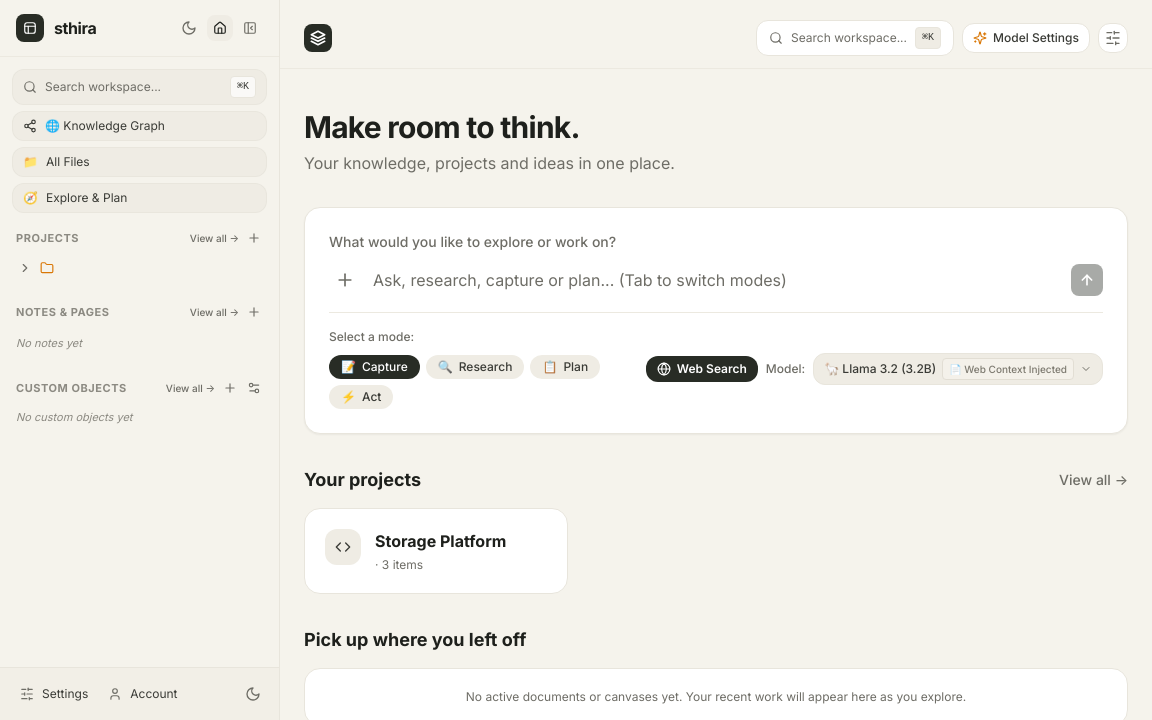
Test case: 🧭 Explore & Plan Hub › Step 1: LeftSidebar navigates to Explore & Plan and switches across all 4 tabs
The width and height of the screenshot is (1152, 720).
Click the button with test id "nav-explore-plan" at (140, 198), box [12,183,267,213]
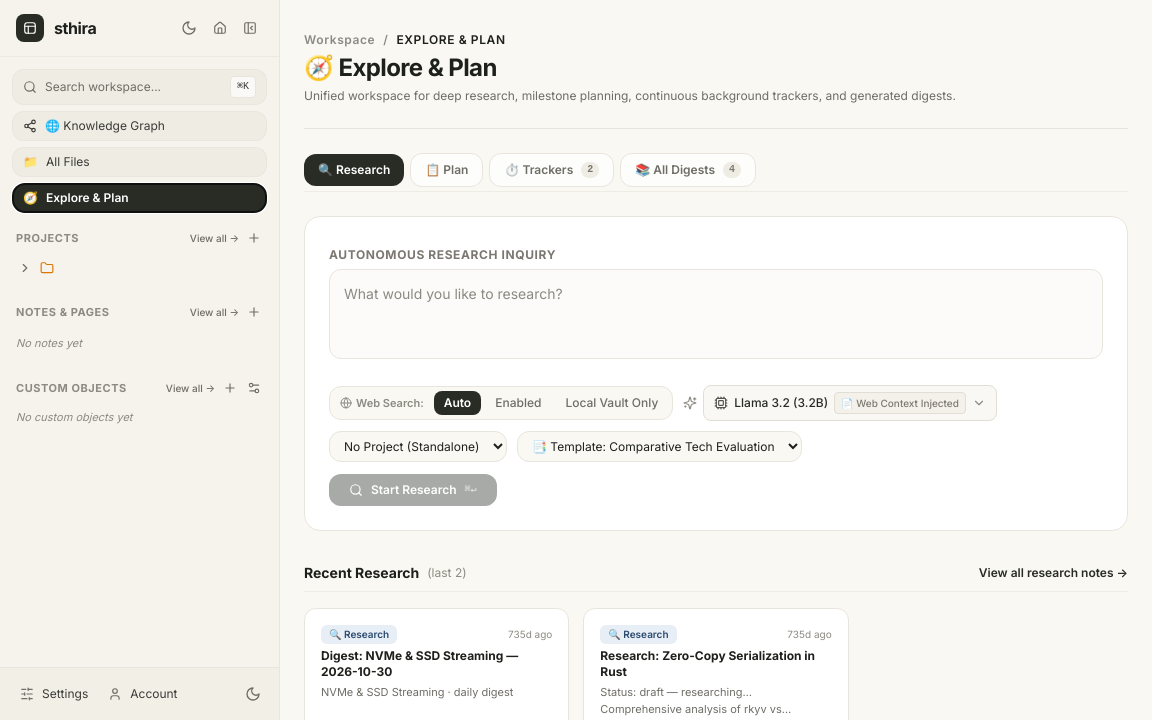
Result: the element with test id "explore-plan-view" is shown
Result: the heading "🧭 Explore & Plan" is shown at [304,53,497,82]
Result: the button with test id "tab-research" is shown at [304,154,404,186]
# Switch to Tab 2: Plan
Click the button with test id "tab-plan" at (447, 170), box [410,153,483,187]
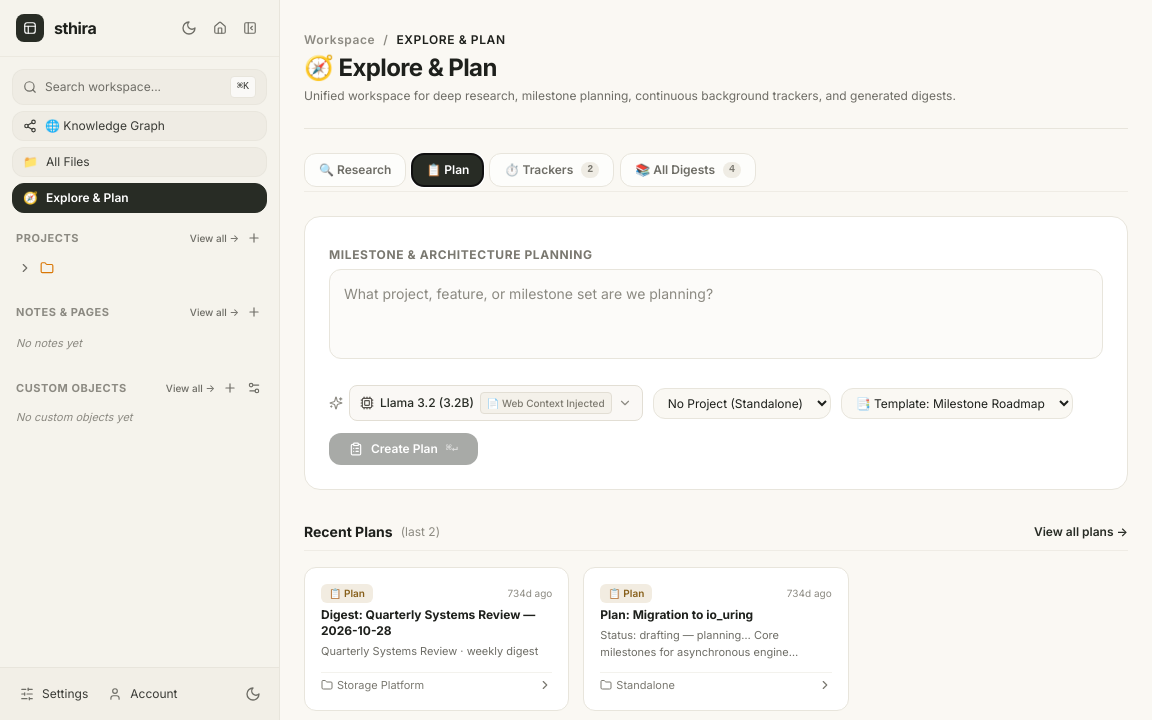
Result: the element with test id "tab-content-plan" is shown at [304,216,1128,710]
Result: the text box with test id "input-plan-goal" is shown at [329,269,1103,359]
Click the button with test id "tab-trackers" at (552, 170), box [489,153,614,187]
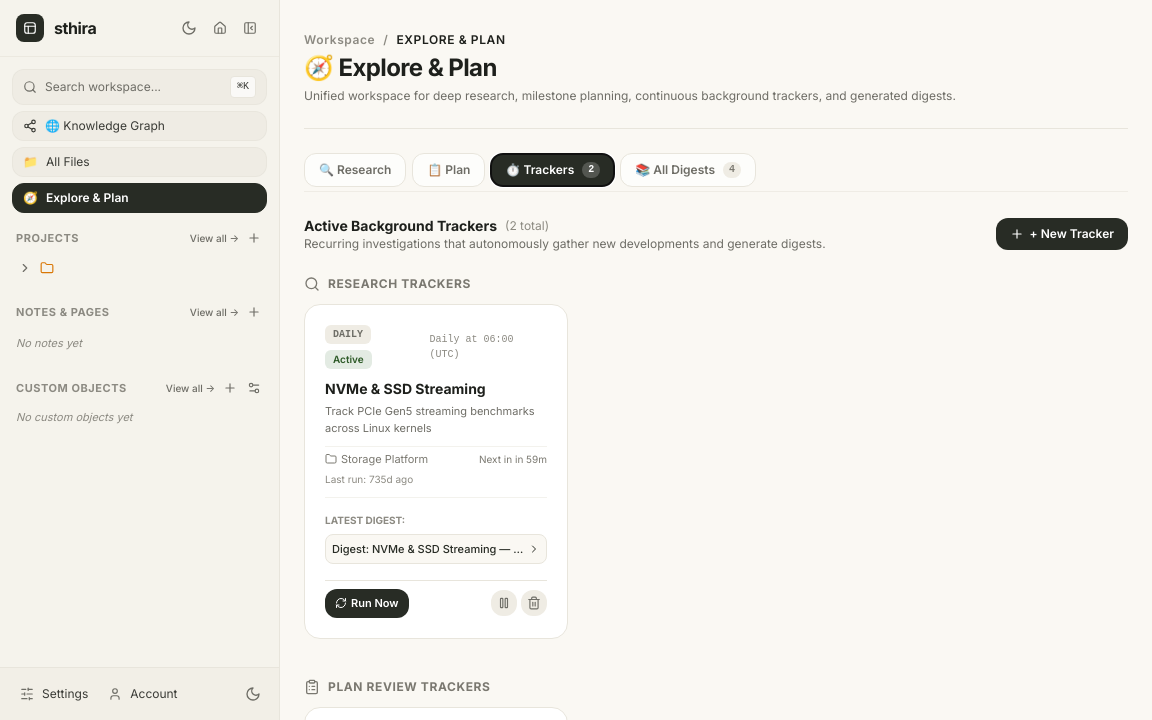
Result: the text with test id "badge-active-trackers" reads "2" at [588,164,594,175]
Result: the element with test id "tab-content-trackers" is shown at [304,216,1128,719]
Result: the button with test id "btn-new-tracker" is shown at [996,218,1128,250]
# Switch to Tab 4: All Digests
Click the button with test id "tab-digests" at (688, 170), box [620,153,756,187]
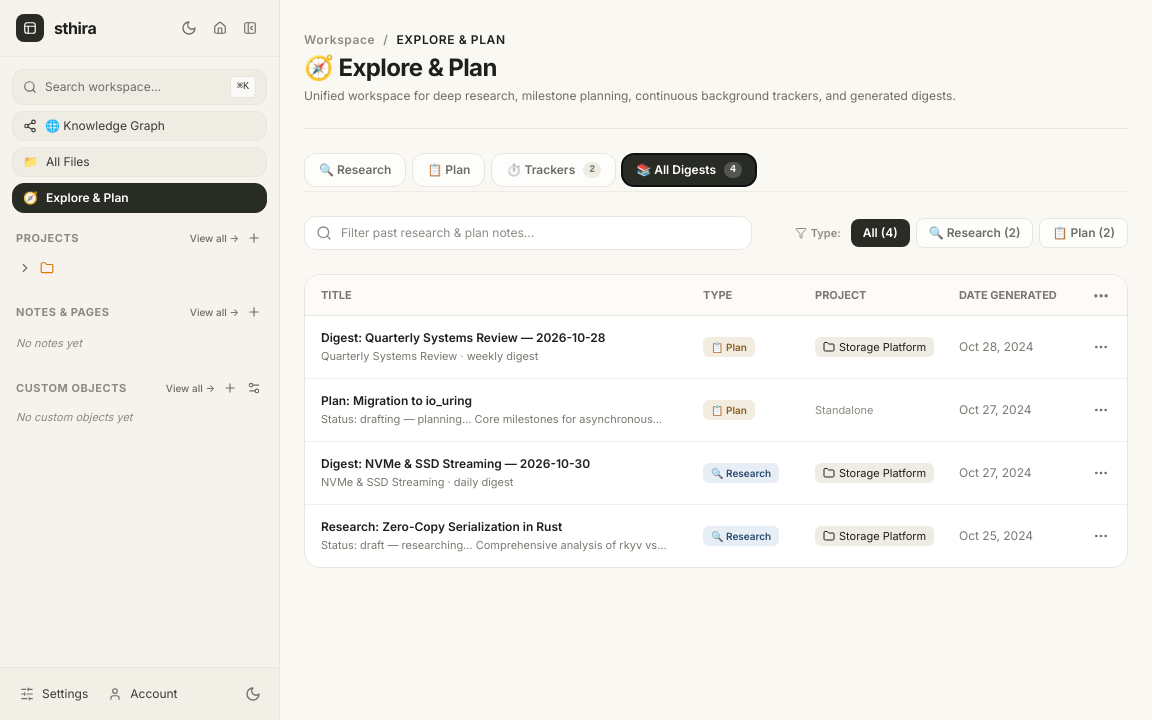
Result: the element with test id "tab-content-digests" is shown at [304,216,1128,568]
Result: the element with test id "digests-table" is shown at [304,274,1128,568]
